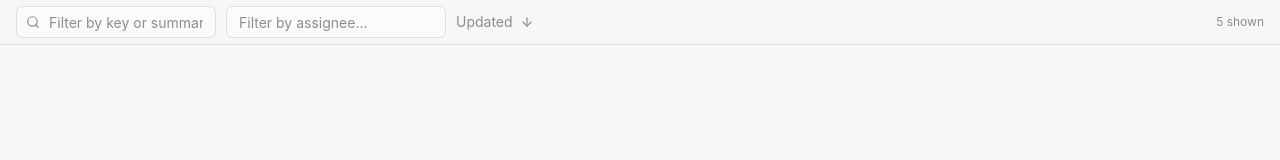
TicketFilterBar — Assignee autocomplete › shows suggestion dropdown after users returned
The width and height of the screenshot is (1280, 160).
In the dropdown with placeholder "Filter by assignee...": coordinates (336, 22) [226,6,446,38], type "ali"
Wait 300 ms
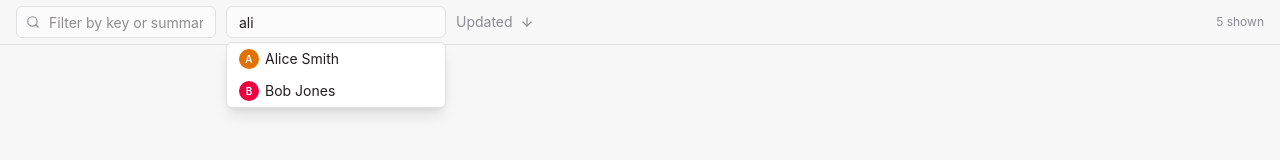
Result: the text "Alice Smith" is shown at [265,49,339,69]
Result: the text "Bob Jones" is shown at [265,81,335,101]
